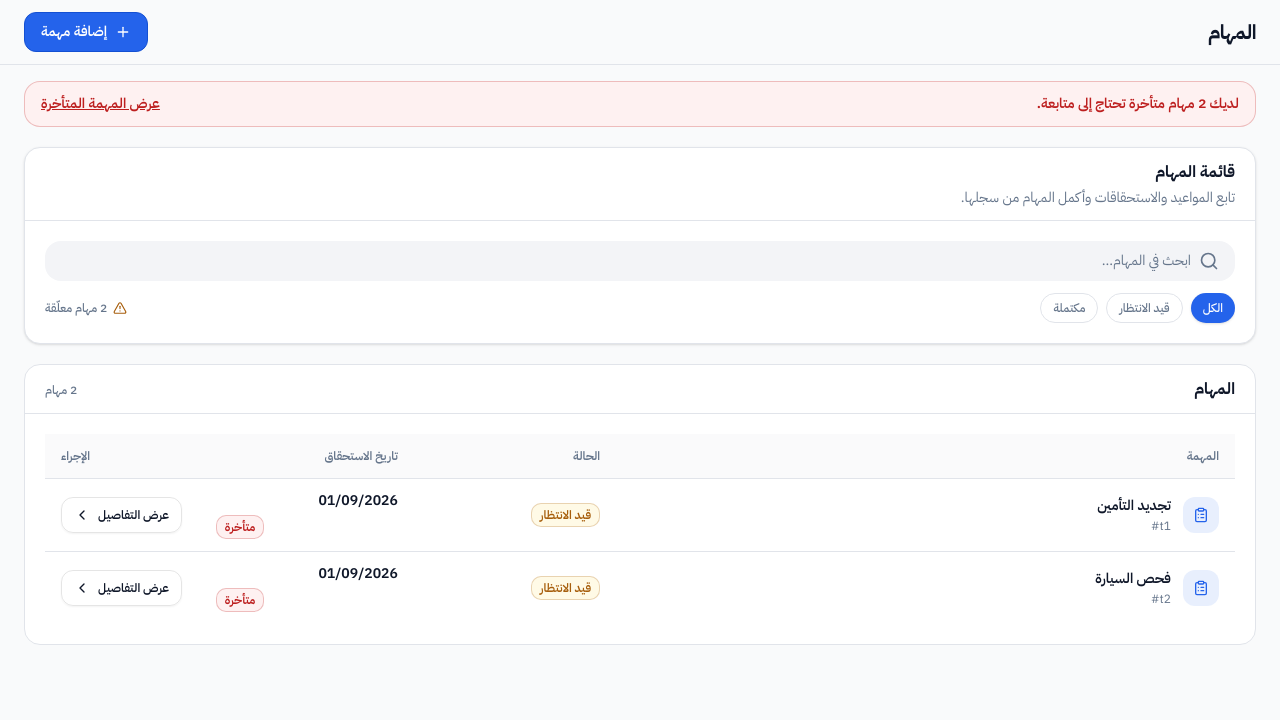
Scenario: TasksPage › filters tasks by search
Type "تأمين" into the search field with placeholder "ابحث في المهام..." at (640, 261), box x1=45 y1=241 x2=1235 y2=281
Wait 400 ms
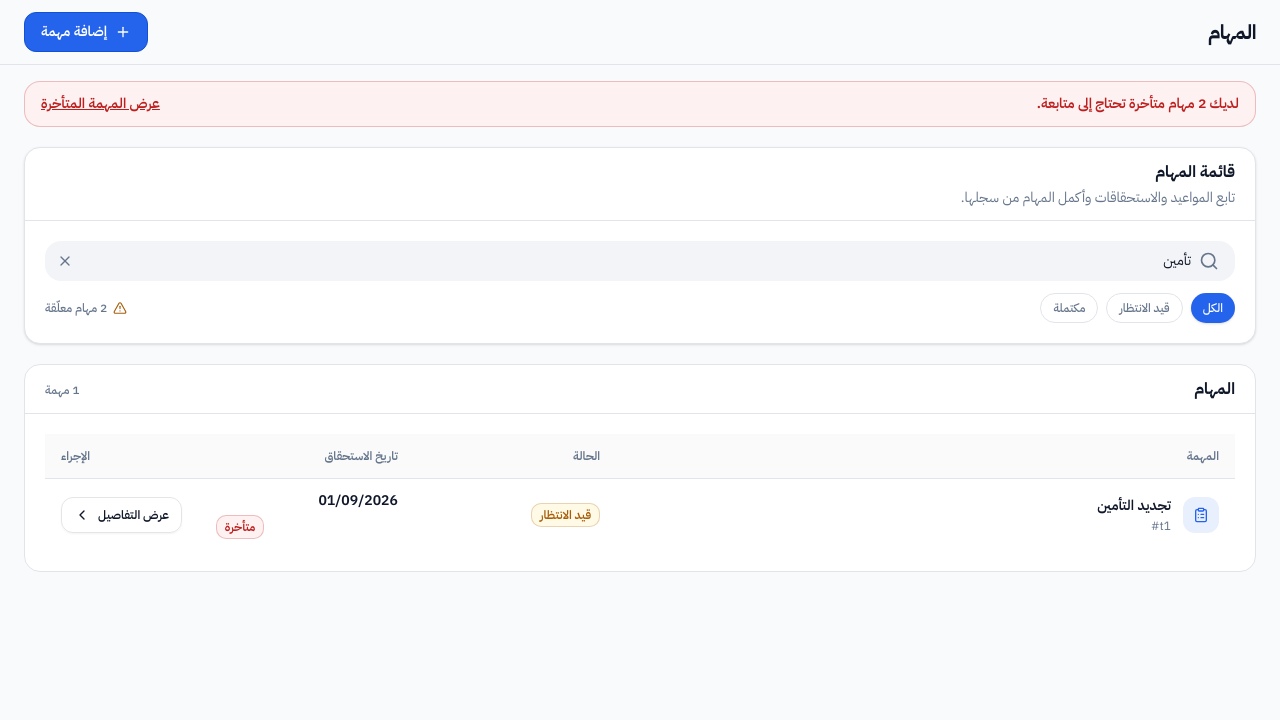
Expected: the text "تجديد التأمين" is shown, x1=1097 y1=494 x2=1171 y2=516
Result: the text "فحص السيارة" is gone
